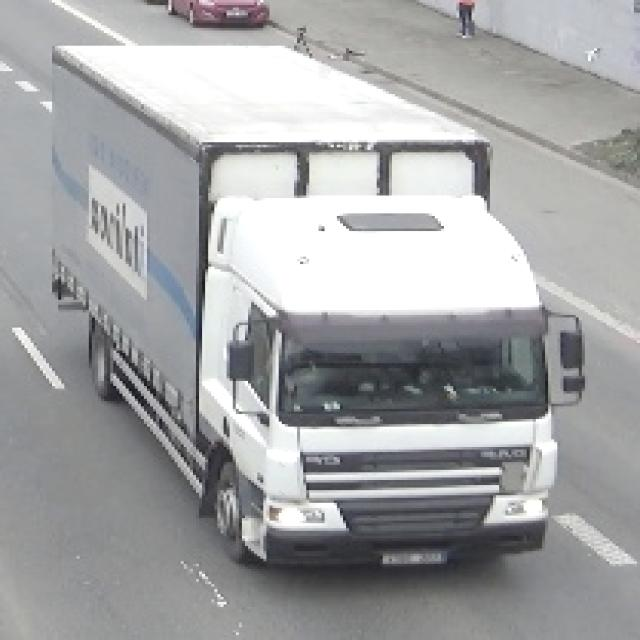truck: (47, 37, 586, 573)
